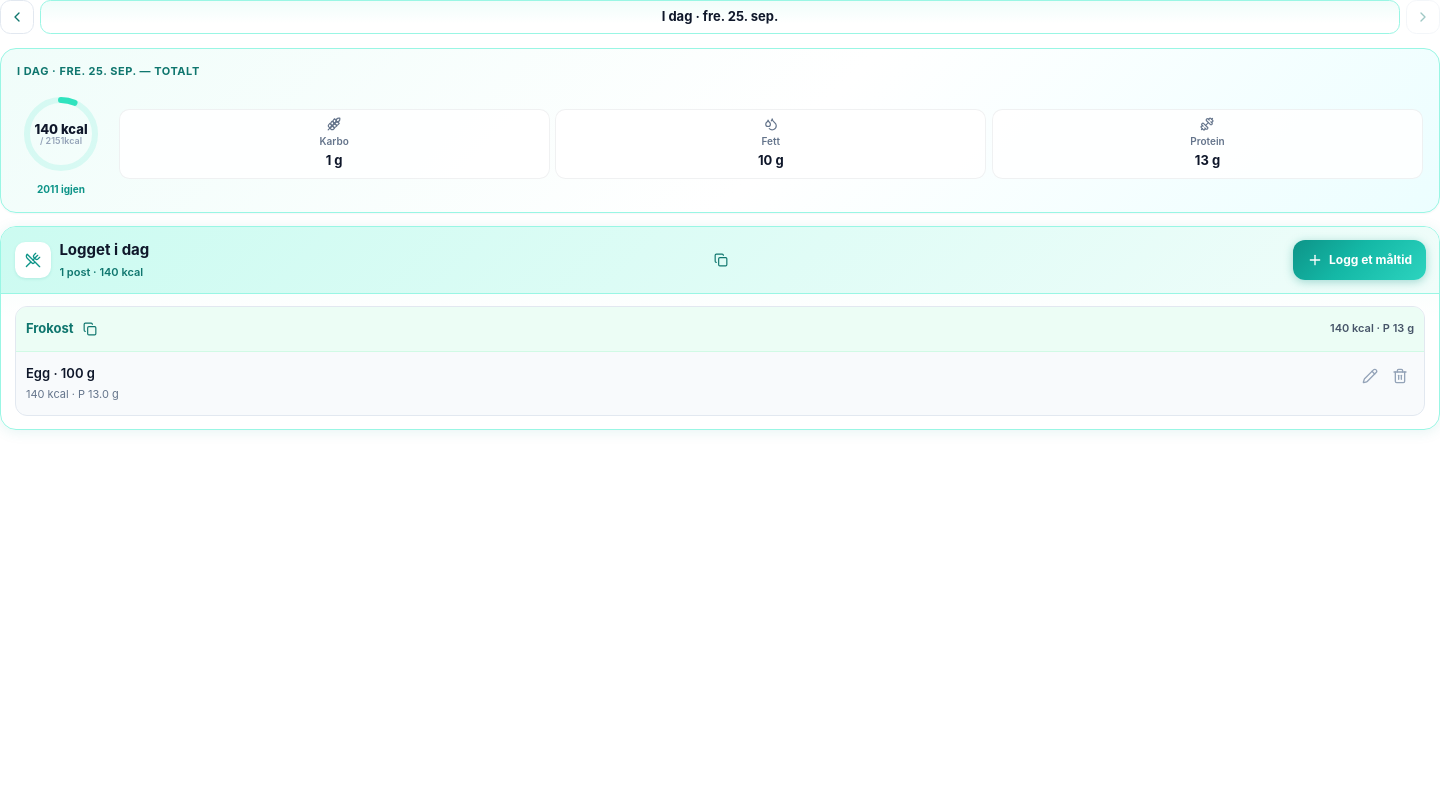
Test: LogMealPanel › offers date copy and saved meal from one meal copy icon
The width and height of the screenshot is (1440, 810).
Click the button named "Kopier Frokost": (90, 329) [76,315,104,343]
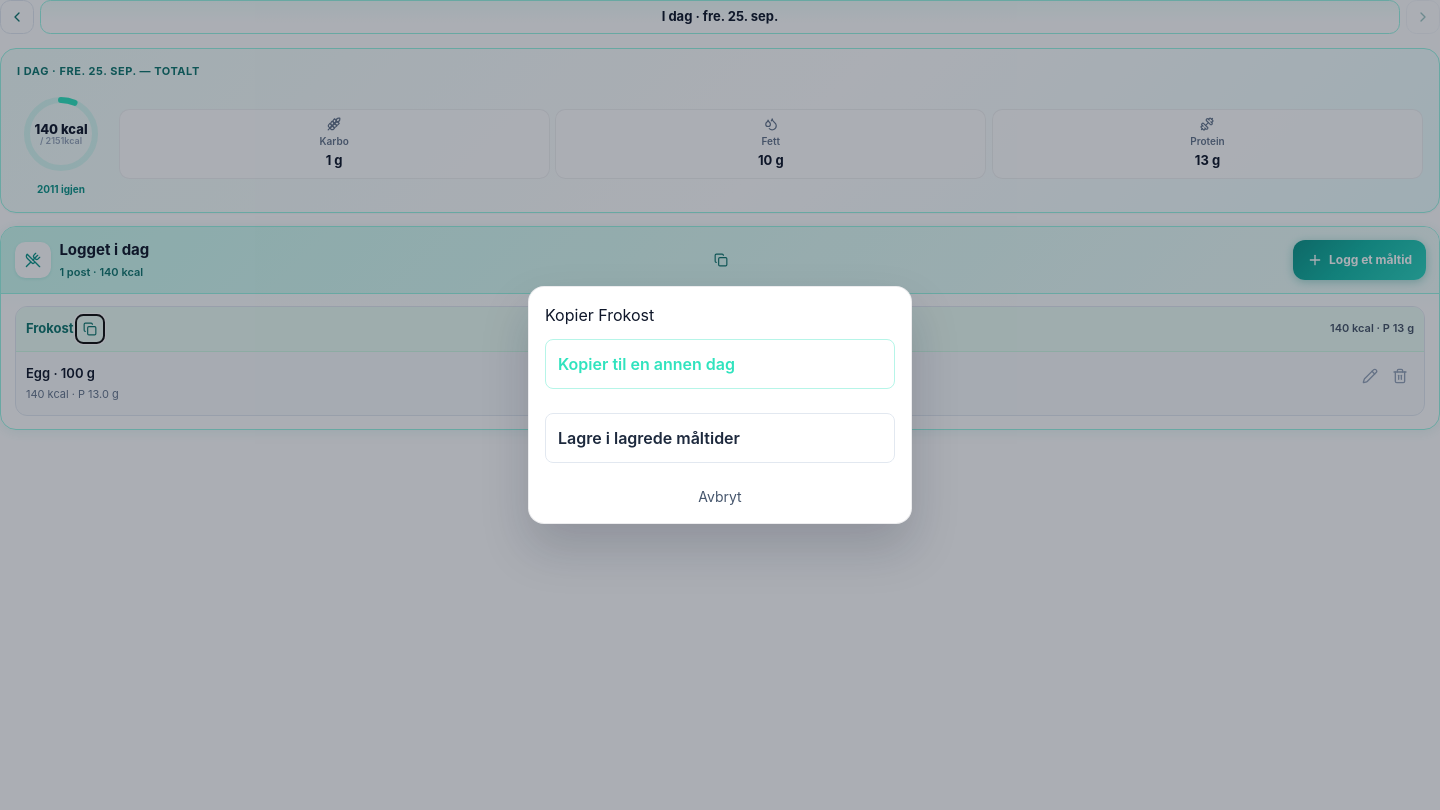
Expected: the button "Kopier til en annen dag" is shown, [545,339,895,389]
Click the button "Lagre i lagrede måltider": (720, 438) [545,413,895,463]
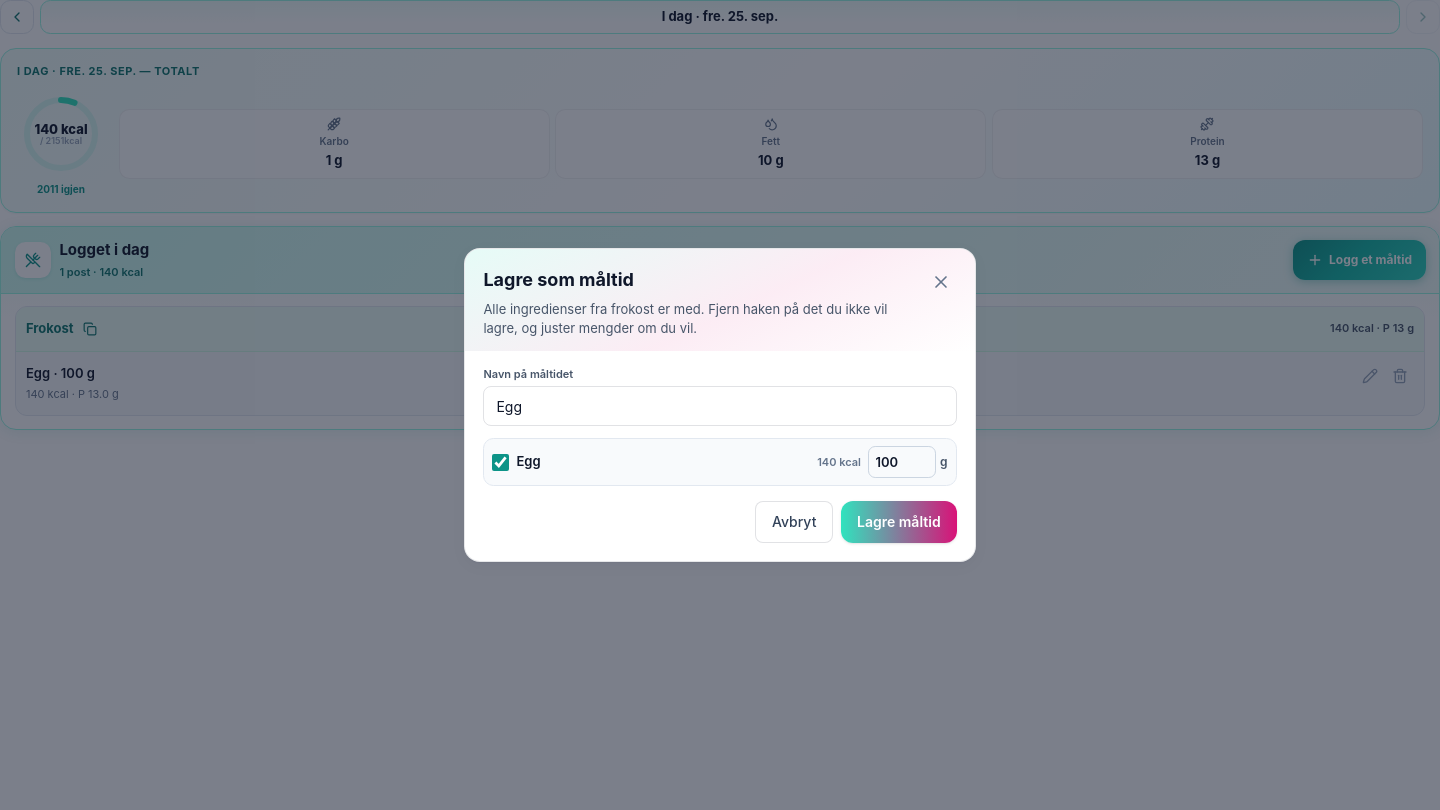
Expected: the dialog "Lagre som måltid" is shown, [464,248,976,562]
